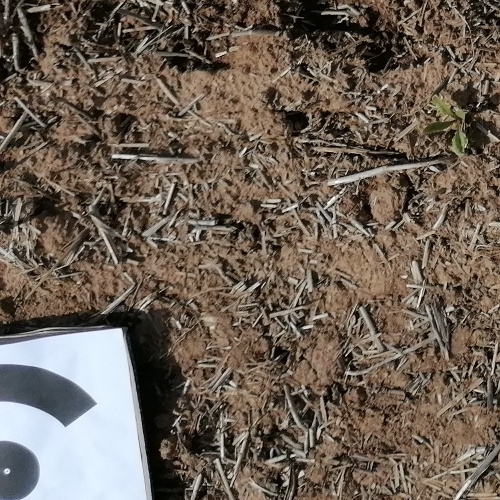beet: (422, 97, 470, 156)
